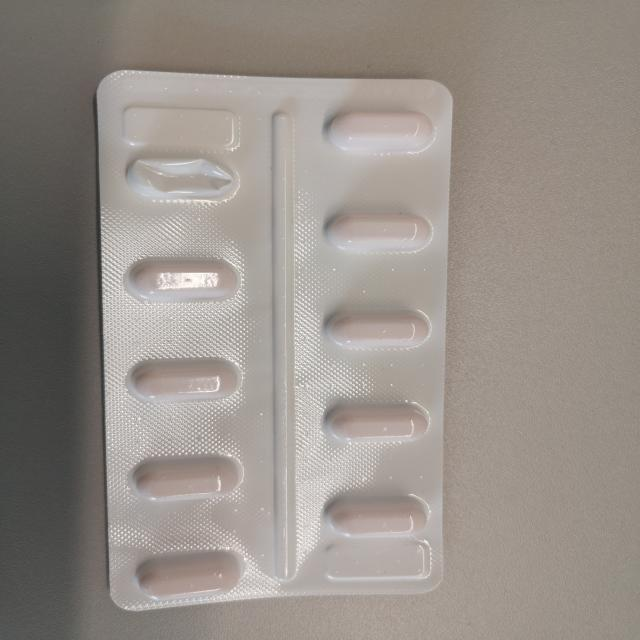Empty: (120, 148, 252, 208)
Pill: (116, 250, 248, 306), (316, 102, 444, 158), (120, 350, 245, 406), (124, 449, 249, 504), (316, 395, 438, 449), (316, 491, 440, 544), (130, 546, 247, 602), (313, 301, 436, 354), (318, 206, 438, 260)
